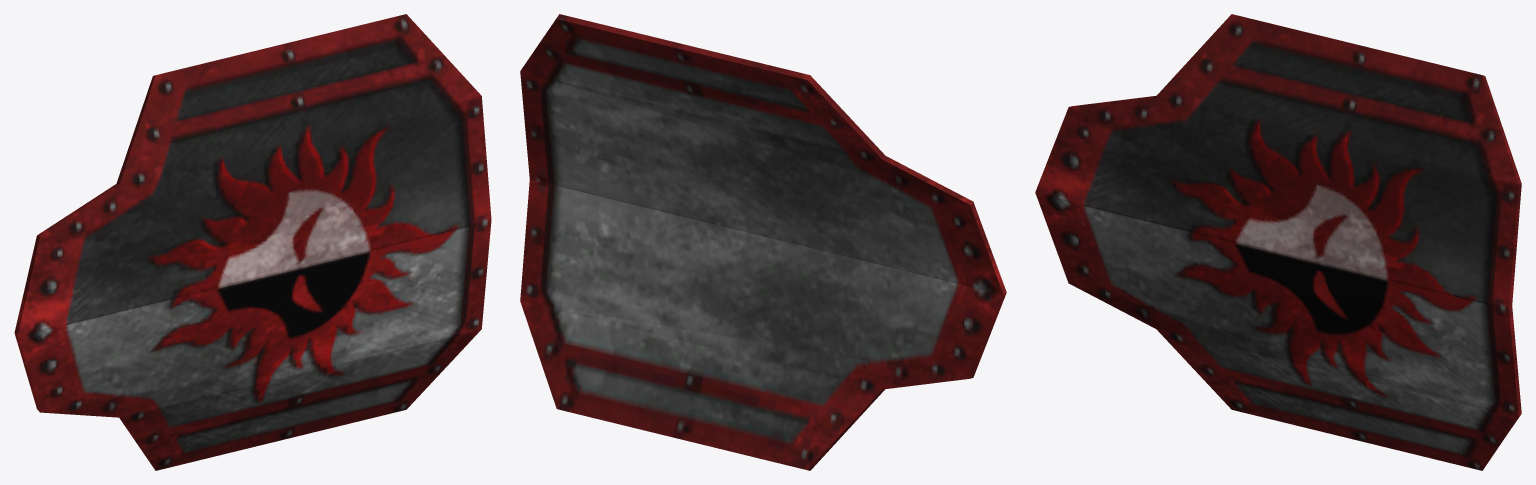
3 views of the same model, side by side, from view 1: azimuth 30°, elevation 25°; view 2: azimuth 150°, elevation 25°; view 3: azimuth 330°, elevation 25° (orthographic).
Parts seen in each view (by area): view 1: it10544; view 2: it10544; view 3: it10544.
Part boxes in pixels (x1,y1,x2,y2): it10544: (14, 14, 491, 470); it10544: (520, 14, 1006, 470); it10544: (1035, 14, 1521, 470).
Size of the model in its own units: 3.64 by 2.91 by 0.4268.
1 material, 1 textured.
